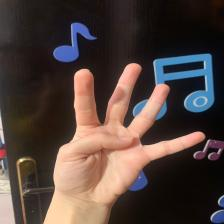four: (55, 61, 204, 211)
